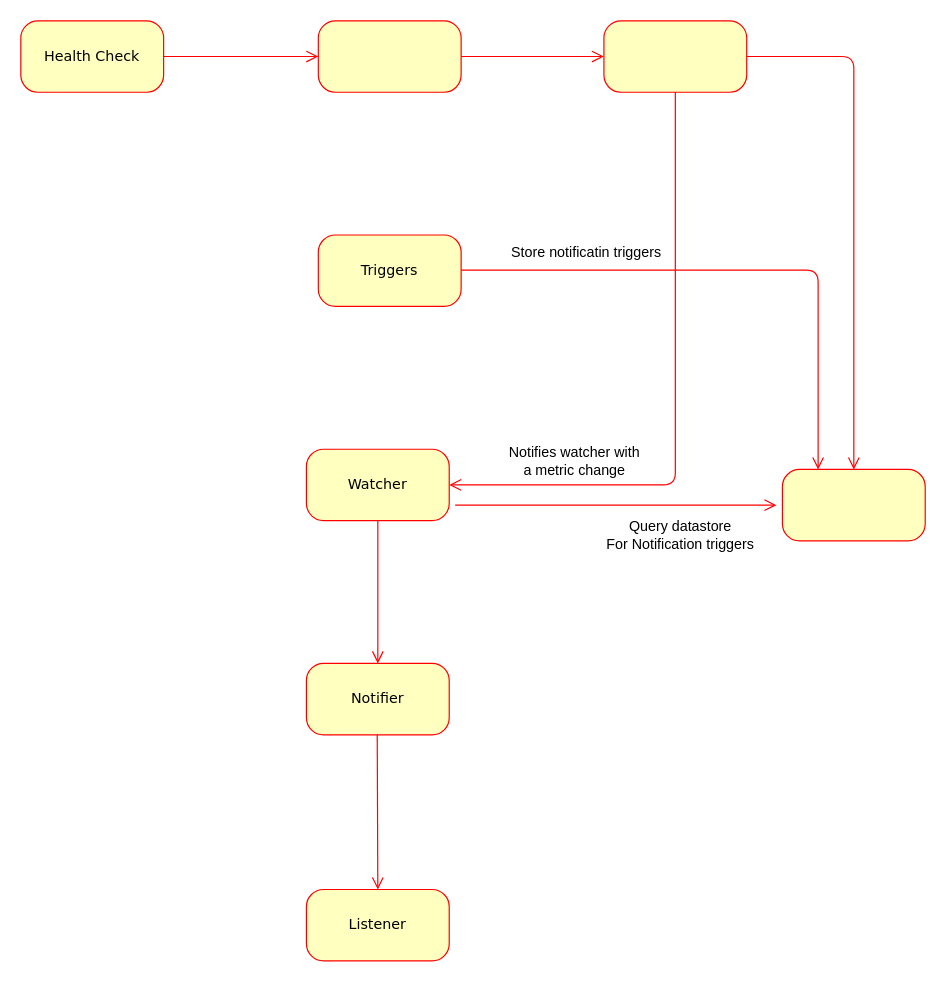
Image size: 946x982. Some labels were removed from this diagram. Here are the shapes that lost their labels. From the top down, the centre of each, then its label:
[389,56]: Metric
[675,56]: Collector
[853,504]: Data Store
